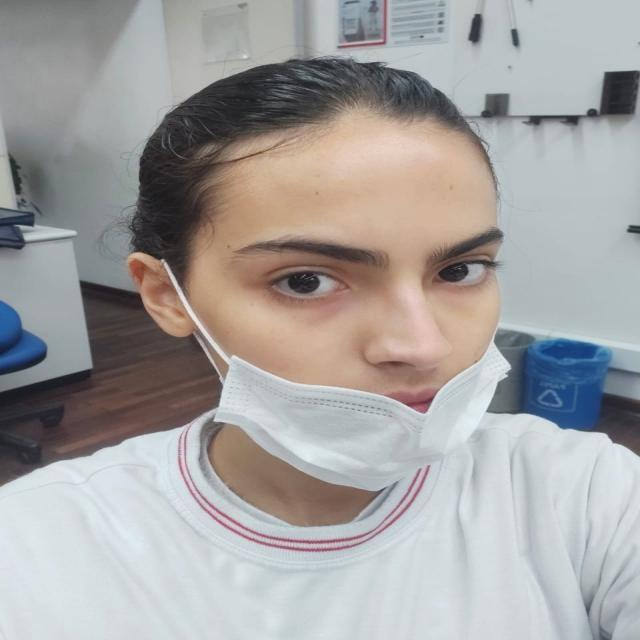hairnet: (214, 300, 500, 475)
